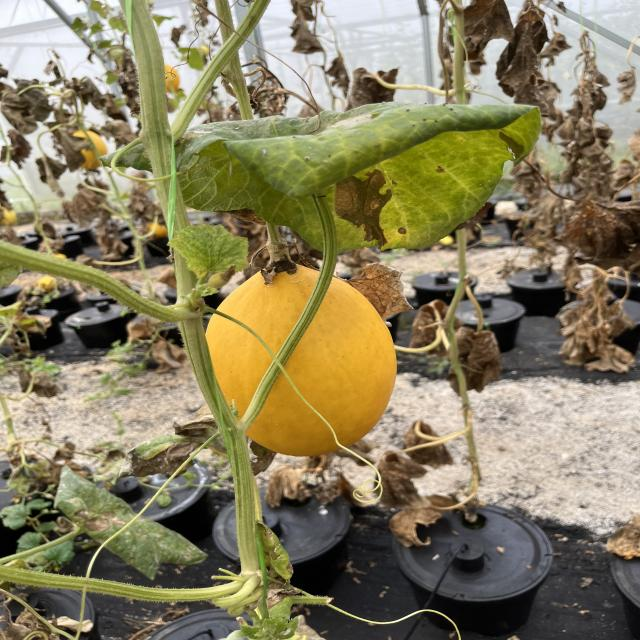CMV: (170, 224, 256, 280)
bacterial wilt: (171, 95, 545, 254), (344, 258, 416, 324), (114, 432, 204, 483)
